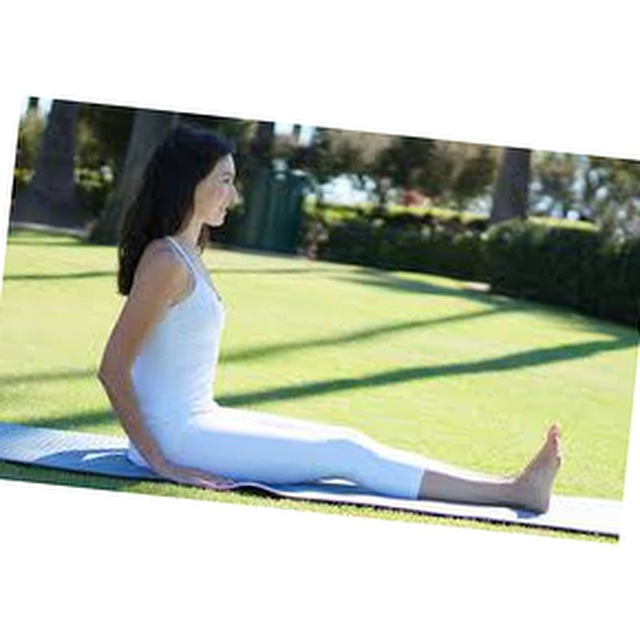Staff_Pose: (96, 123, 562, 516)
